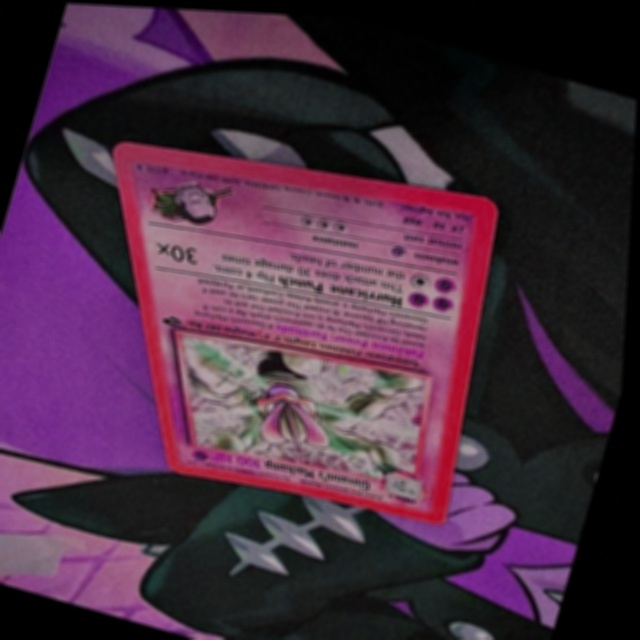card: (112, 138, 499, 520)
